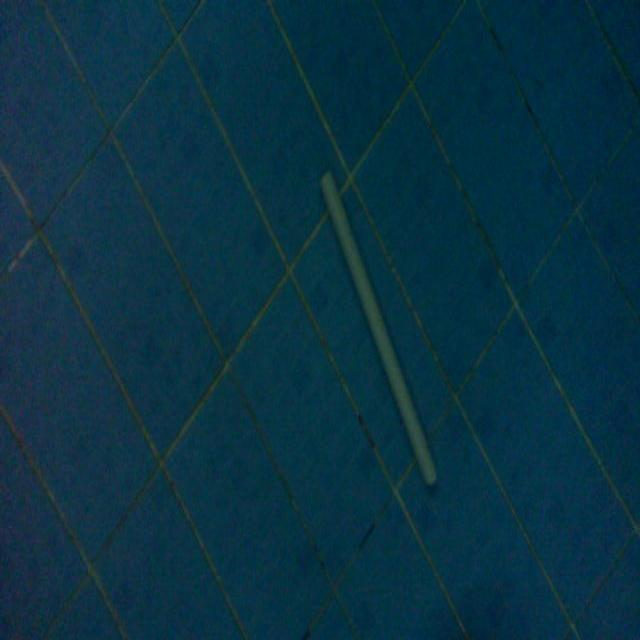Cube: (317, 163, 439, 489)
